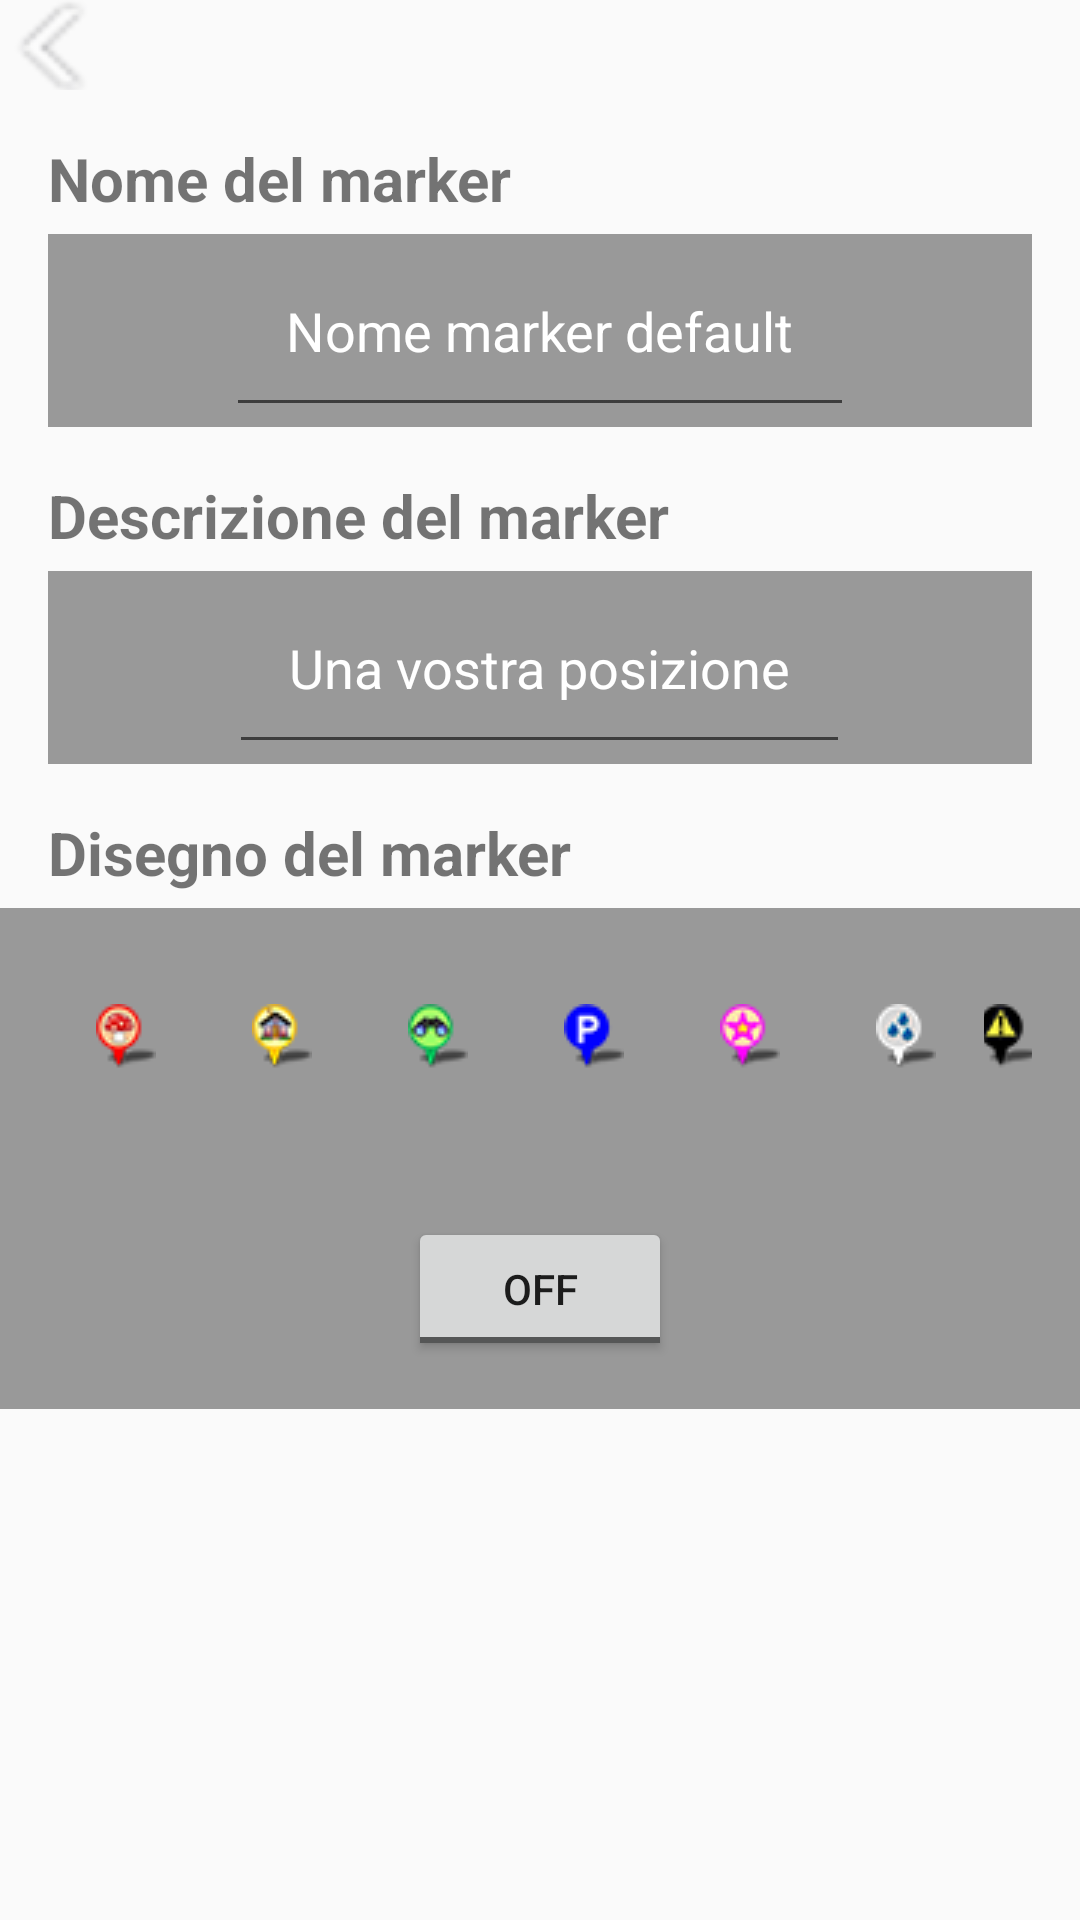

Named icons in this screenshot (1080px x 1920px) and their bounding boxes, (x1, y1, x2, y2):
left arrow: (25, 6, 78, 85)
marker bianco ombra piccolo: (876, 1004, 936, 1066)
marker blu ombra piccolo: (564, 1004, 624, 1067)
marker giallo ombra piccolo: (252, 1004, 312, 1067)
marker magenta ombra piccolo: (720, 1004, 780, 1065)
marker nero ombra piccolo: (984, 1004, 1032, 1065)
marker rosso ombra piccolo: (96, 1004, 156, 1067)
marker verde ombra piccolo: (408, 1004, 468, 1067)
